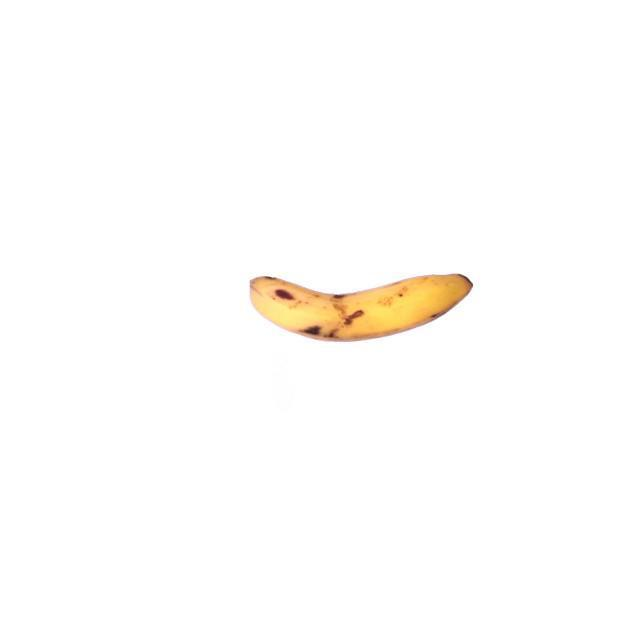Banana: (246, 270, 475, 344)
